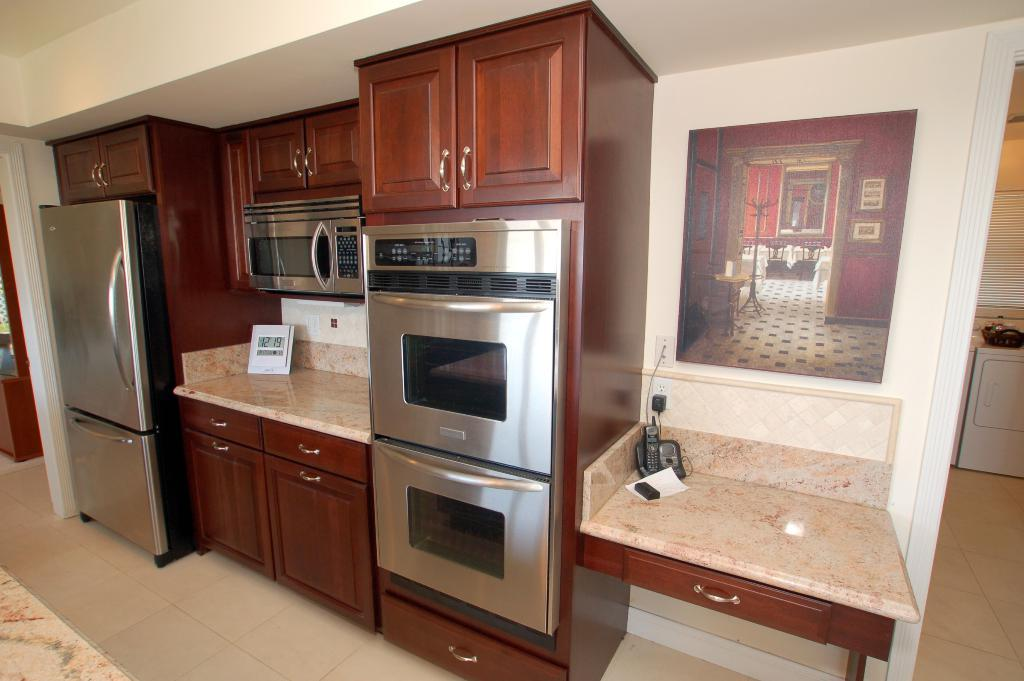cabinet_door: (463, 60, 568, 194), (361, 70, 452, 204), (276, 472, 356, 590), (638, 563, 826, 613), (200, 450, 270, 556), (397, 621, 529, 670), (250, 124, 302, 186), (301, 124, 355, 181), (102, 138, 148, 200), (51, 142, 99, 200), (187, 408, 260, 441), (289, 445, 356, 471)
handle: (383, 450, 525, 493), (108, 247, 142, 396), (388, 295, 534, 326), (432, 638, 490, 670), (686, 579, 744, 610), (308, 226, 328, 290), (78, 424, 130, 446), (458, 148, 476, 192), (434, 149, 450, 196), (292, 470, 326, 490), (200, 438, 228, 456), (96, 162, 114, 186), (290, 150, 304, 178), (204, 413, 230, 428), (291, 444, 321, 456), (308, 150, 318, 179), (88, 158, 98, 185)
